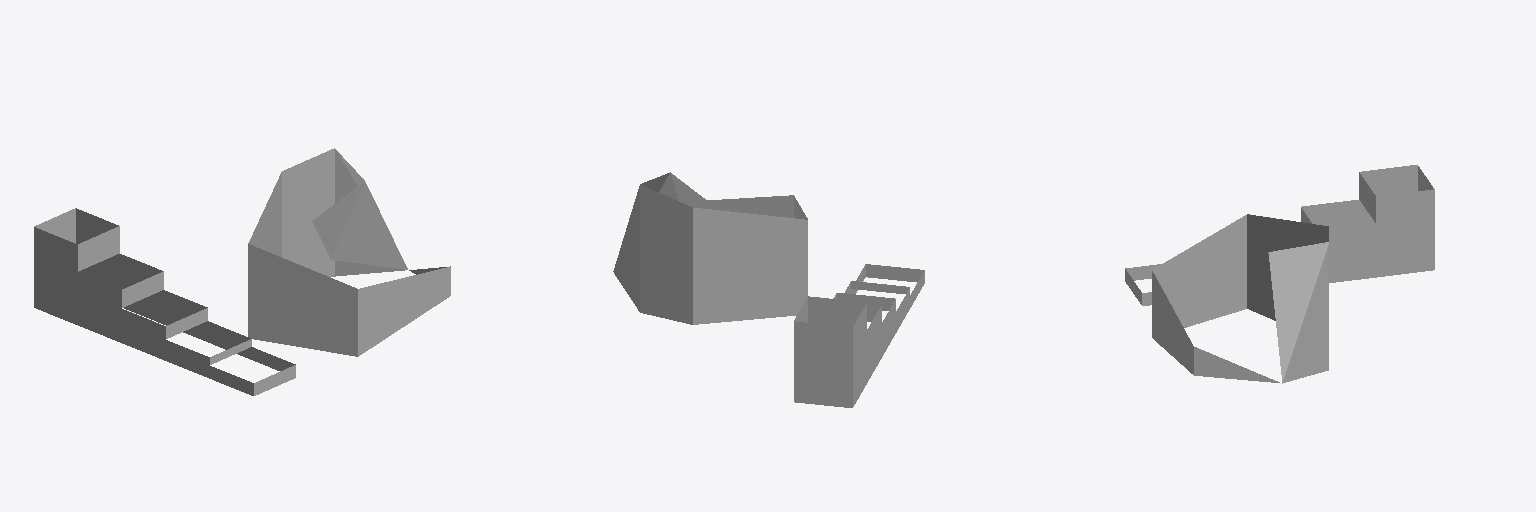
File: texplanedense1.obj
3 renders of one model, left to right at view 1: azimuth 30°, elevation 25°; view 2: azimuth 150°, elevation 25°; view 3: azimuth 270°, elevation 25°, orthographic.
Parts seen in each view (by area): view 1: Plane.003; view 2: Plane.003; view 3: Plane.003.
Boxes of the visible parts, x1=… form: Plane.003: x1=34, y1=148, x2=450, y2=395; Plane.003: x1=613, y1=172, x2=924, y2=407; Plane.003: x1=1125, y1=165, x2=1434, y2=383.
Size of the model in its own units: 46.58 by 18.73 by 40.64.